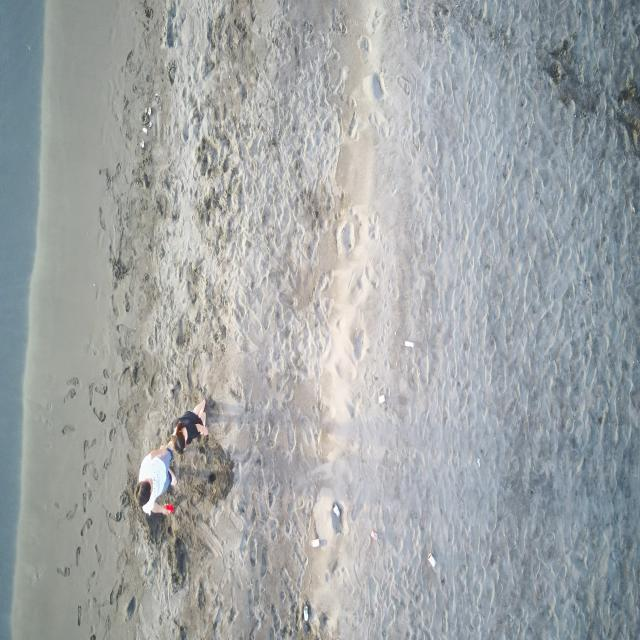Garbage: (332, 502, 340, 532), (141, 107, 151, 124), (311, 537, 324, 547), (427, 552, 435, 567), (332, 503, 340, 516), (303, 603, 308, 620), (163, 503, 172, 512), (369, 529, 376, 540), (377, 393, 383, 403), (404, 340, 412, 347), (145, 107, 151, 116), (475, 457, 480, 466), (141, 125, 147, 132), (148, 120, 151, 128), (140, 140, 143, 148), (156, 91, 159, 98)
